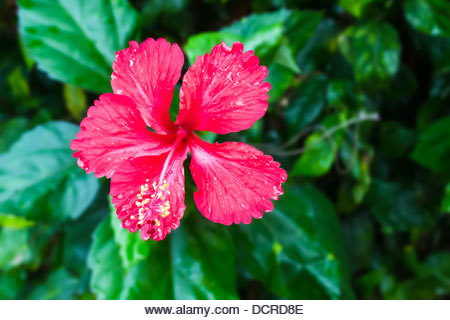Hibiscus: (78, 35, 291, 237)
